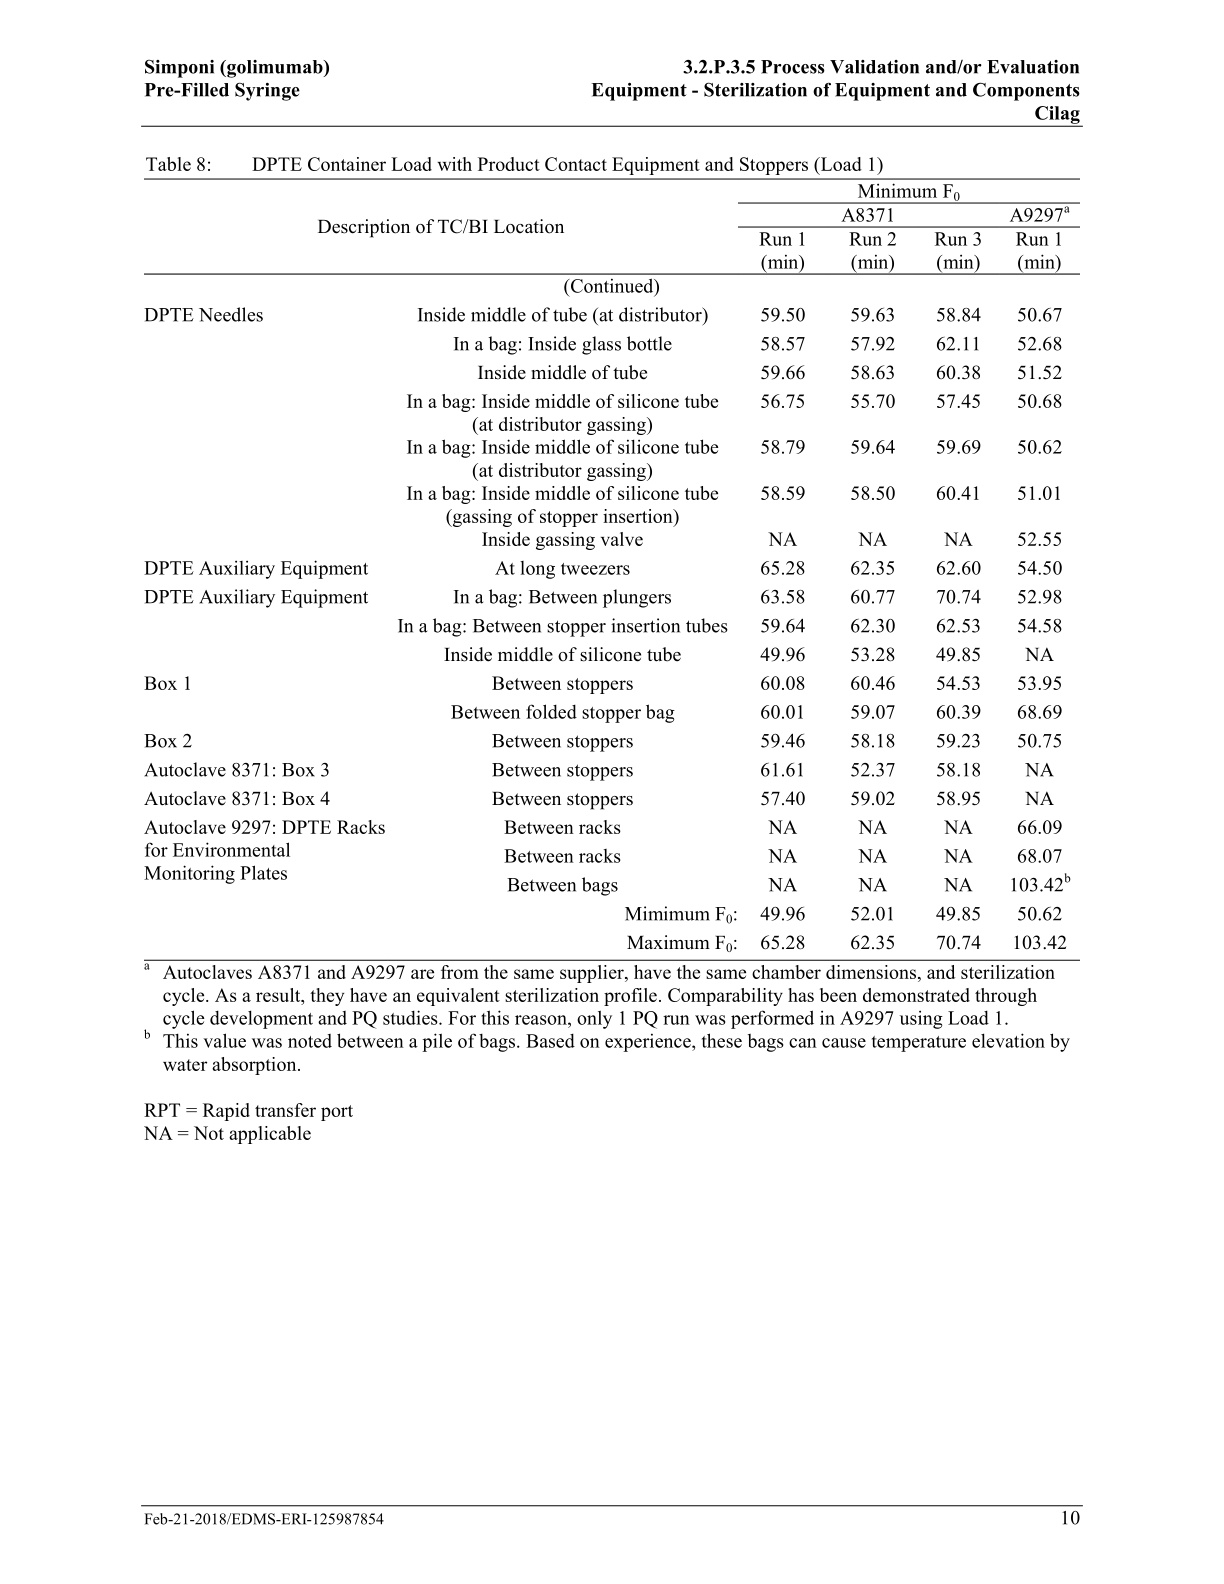partial_lined_merged_cells: (144, 176, 1081, 962)
